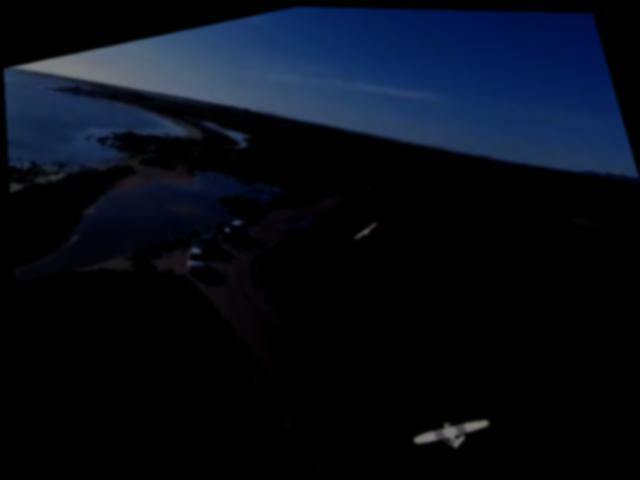uav: (396, 399, 496, 461), (342, 212, 384, 245)
